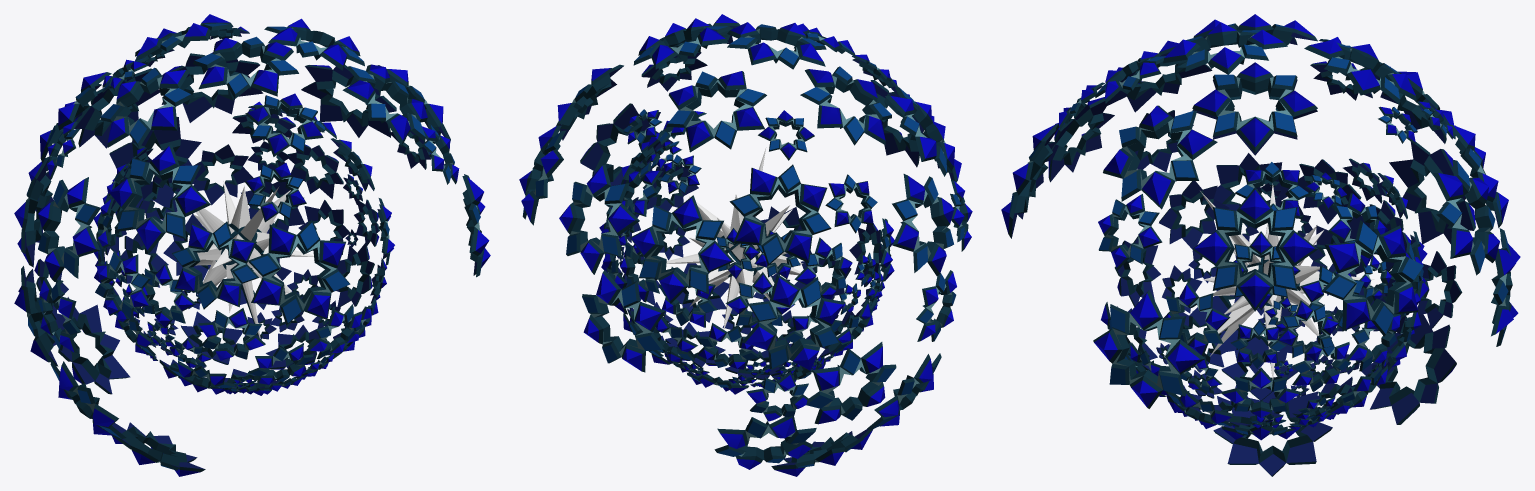
Rendered from StarGates.fbx.
3 views of the same model, side by side, from view 1: azimuth 30°, elevation 25°; view 2: azimuth 150°, elevation 25°; view 3: azimuth 270°, elevation 25° (orthographic). The views are drawn at different scales.
Parts seen in each view (by area): view 1: base.004, base, Cube; view 2: base.004, base, Cube; view 3: base.004, base, Cube.
Boxes of the visible parts, <box> form: base.004: <box>14,14,490,476</box>; base: <box>94,101,394,395</box>; Cube: <box>193,180,313,338</box>; base.004: <box>519,14,972,476</box>; base: <box>599,111,894,394</box>; Cube: <box>666,147,803,329</box>; base.004: <box>1001,14,1520,476</box>; base: <box>1101,158,1428,440</box>; Cube: <box>1200,183,1373,379</box>.
Bounding box in the file's own units: 2649 × 2633 × 2673.
